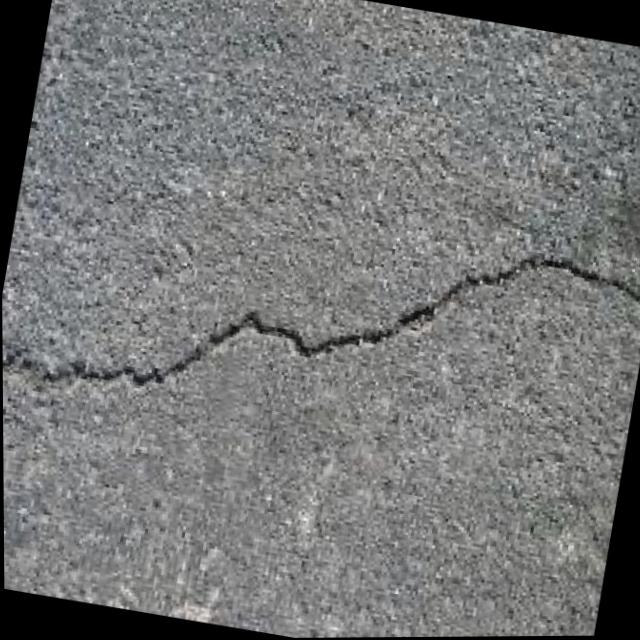Crack: (1, 138, 640, 549)
